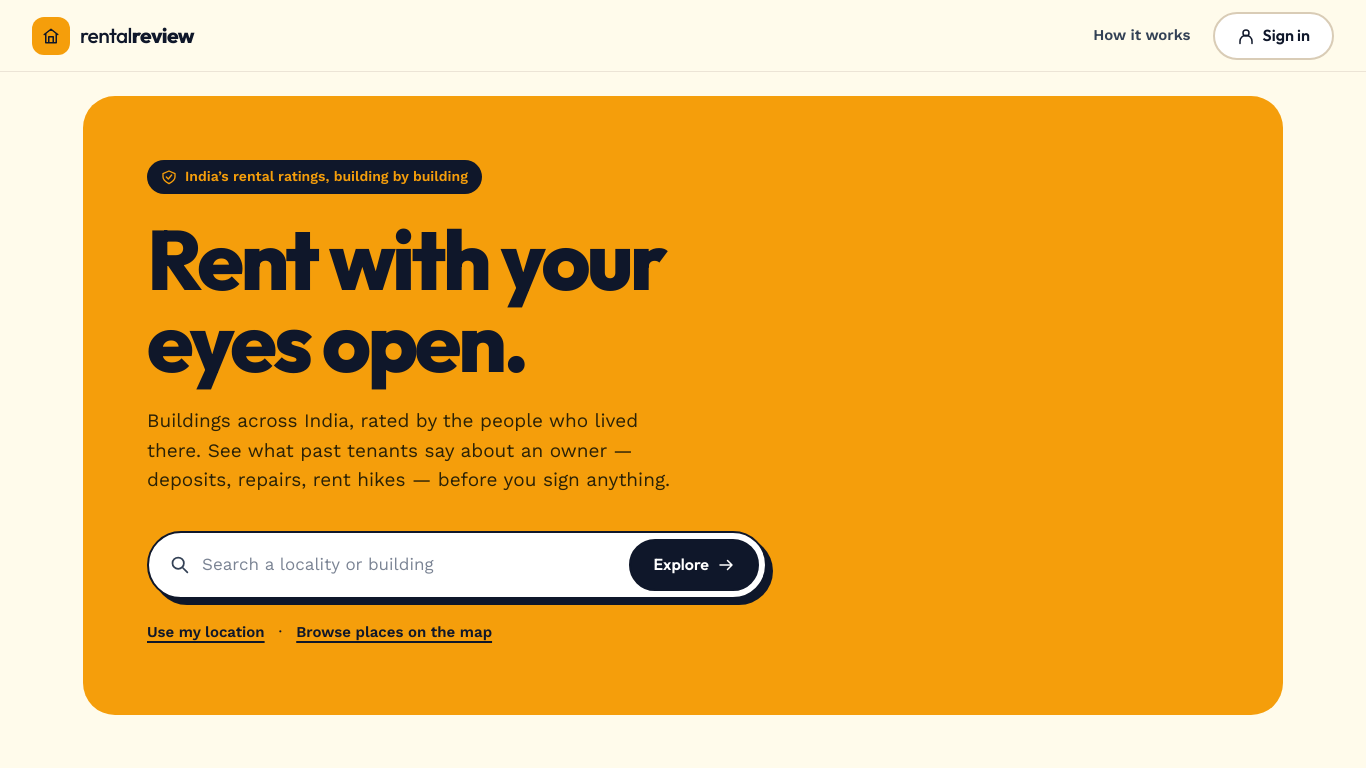
Rental Review › shows a failed search inside the suggestion list
Type "Unknown place" into the dropdown named "Search for a locality" at [410, 565], box x1=202 y1=540 x2=617 y2=590
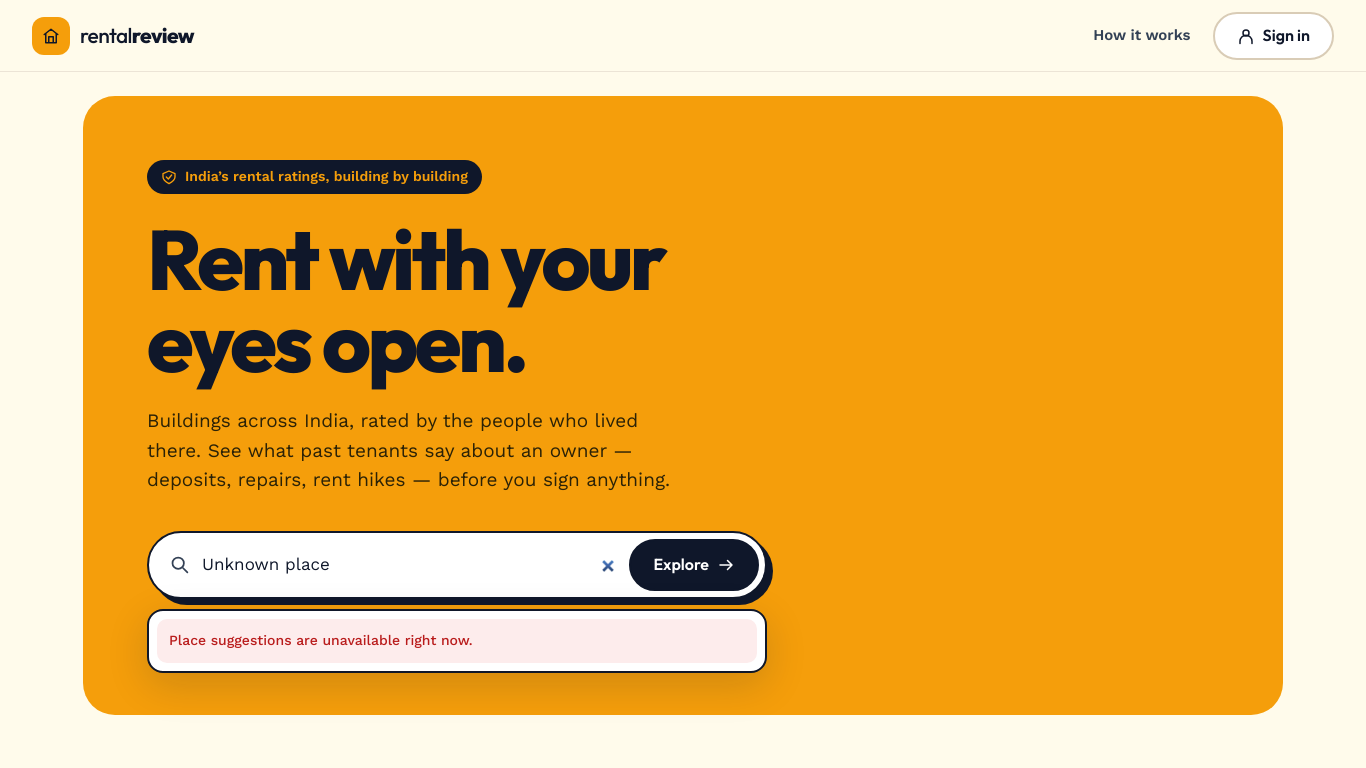
Expected: the text "Place suggestions are unavailable right now." is shown, x1=157 y1=619 x2=757 y2=663
